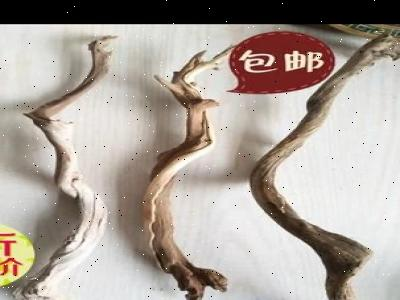Root: (250, 34, 399, 299), (143, 41, 243, 299), (16, 36, 114, 299)
